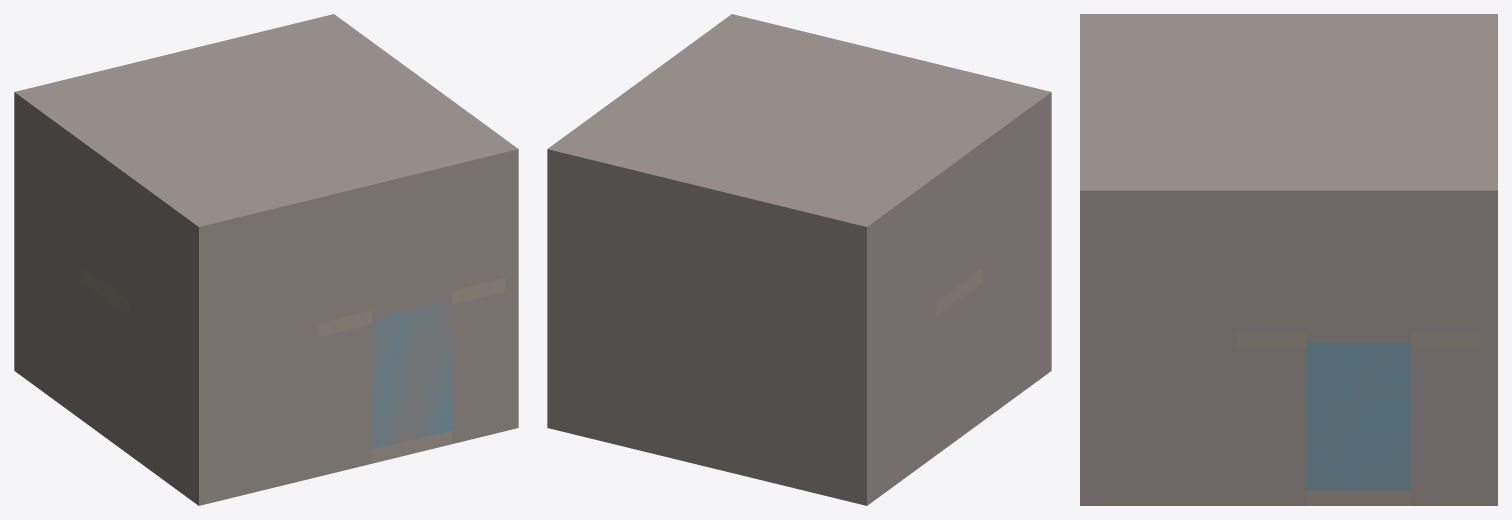
File: creek-bend.glb
3 views of the same model, side by side, from view 1: azimuth 30°, elevation 25°; view 2: azimuth 150°, elevation 25°; view 3: azimuth 270°, elevation 25° (orthographic). The views are drawn at different scales.
Parts seen in each view (by area): view 1: rock_19, rock_3, rock_14, plug_creek_south, plug_creek_south.001, rock_2, rock_7, rock_13, rock_8, water_5, plug_west, rock_10 (+11 smaller); view 2: rock_19, rock_1, rock_12, rock_3, rock_2, rock_14, rock_13, rock_8, plug_west, rock_18, cave-floor_9; view 3: rock_19, rock_4, plug_creek_east, rock_15, water_1, rock_5, rock_9, rock_16, plug_creek_east.001, rock_1, rock_12, cave-floor_1 (+2 smaller).
Part boxes in pixels (<box>): rock_19: <box>14,14,518,240</box>; rock_3: <box>129,302,318,505</box>; rock_14: <box>129,191,318,352</box>; plug_creek_south: <box>319,180,505,323</box>; plug_creek_south.001: <box>372,291,451,449</box>; rock_2: <box>22,223,83,421</box>; rock_7: <box>319,324,371,476</box>; rock_13: <box>22,112,83,267</box>; rock_8: <box>83,282,129,454</box>; water_5: <box>398,299,451,442</box>; plug_west: <box>83,185,129,301</box>; rock_10: <box>478,292,505,437</box>; rock_19: <box>547,14,1051,240</box>; rock_1: <box>547,274,874,505</box>; rock_12: <box>547,163,874,352</box>; rock_3: <box>982,218,1051,421</box>; rock_2: <box>874,302,936,499</box>; rock_14: <box>982,106,1051,267</box>; rock_13: <box>874,191,936,346</box>; rock_8: <box>936,282,982,454</box>; plug_west: <box>936,185,982,301</box>; rock_18: <box>936,157,982,217</box>; cave-floor_9: <box>936,268,982,315</box>; rock_19: <box>1080,14,1497,206</box>; rock_4: <box>1080,332,1236,505</box>; plug_creek_east: <box>1236,222,1480,332</box>; rock_15: <box>1080,206,1236,332</box>; water_1: <box>1306,342,1410,490</box>; rock_5: <box>1410,348,1480,505</box>; rock_9: <box>1236,348,1306,505</box>; rock_16: <box>1236,206,1480,221</box>; plug_creek_east.001: <box>1306,332,1410,490</box>; rock_1: <box>1480,332,1497,505</box>; rock_12: <box>1480,206,1497,332</box>; cave-floor_1: <box>1306,490,1410,505</box>.
Size of the model in its own units: 12 by 10 by 12.
